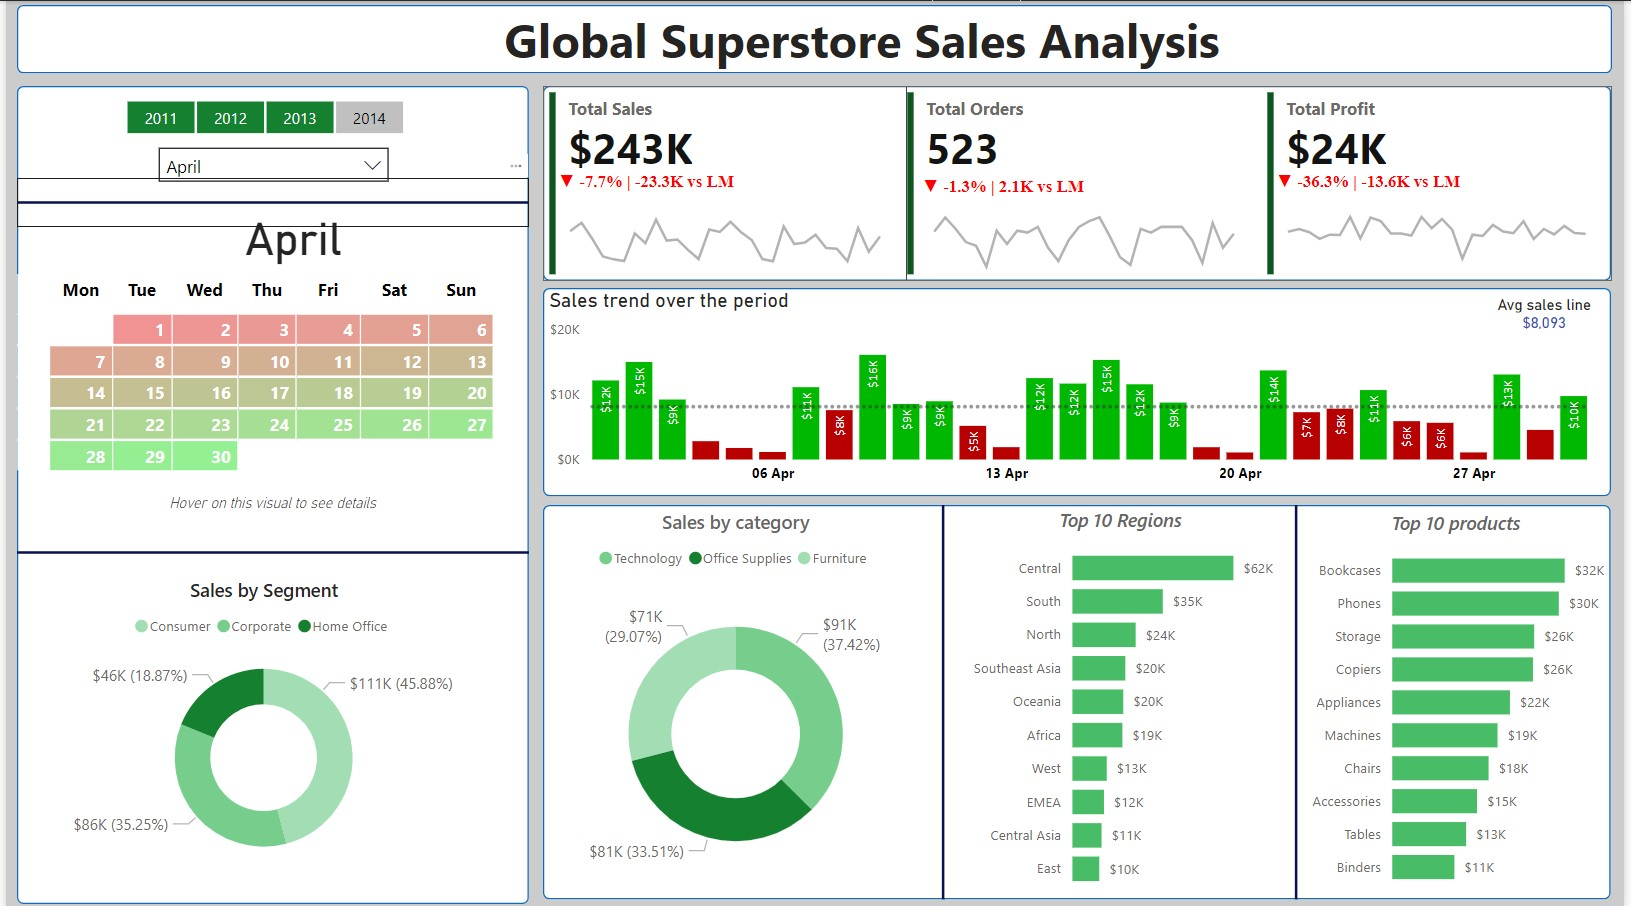

The page's visual inventory and layout, read from the dashboard file:
{"tool":"powerbi","page":{"name":"Page 1","canvas":[1280,720],"ordinal":0},"visuals":[{"type":"shape","box":[8.6,67.3,405.4,647.8],"z":0},{"type":"cardVisual","fields":{"Data":["Measure.Total Sales"]},"box":[425.2,67.3,288.3,154.4],"z":0,"group":"g1"},{"type":"cardVisual","fields":{"Data":["Measure.Total Orders"]},"box":[708.2,67.3,284.7,154.4],"z":0,"group":"g2"},{"type":"cardVisual","fields":{"Data":["Measure.Total Profit"]},"box":[992.9,67.3,277.6,154.4],"z":0,"group":"g3"},{"type":"shape","box":[8.6,3.5,1261.9,54.3],"z":1000},{"type":"lineChart","fields":{"Y":["Measure.Total Sales"],"Category":["Calender.Date.Variation.Date Hierarchy.Year","Calender.Date.Variation.Date Hierarchy.Quarter","Calender.Date.Variation.Date Hierarchy.Month","Calender.Date.Variation.Date Hierarchy.Day"]},"box":[432.2,135.4,274.3,79.4],"z":1000,"group":"g1"},{"type":"lineChart","fields":{"Category":["Calender.Date Hierarchy.Date"],"Y":["Measure.Total Profit"]},"box":[999.7,135.4,264,79.4],"z":1000,"group":"g3"},{"type":"lineChart","fields":{"Category":["Calender.Date Hierarchy.Date"],"Y":["Measure.Total Orders"]},"box":[719.8,139.6,265.9,80.3],"z":1000,"group":"g2"},{"type":"shape","box":[425.2,226.8,845.3,164.7],"z":3000},{"type":"shape","box":[425.2,398.5,845.3,312.2],"z":4000},{"type":"textbox","box":[389,0,596.9,67.3],"z":5000},{"type":"shape","box":[425.2,67.3,845.3,154.4],"z":6000},{"type":"slicer","fields":{"Values":["Calender.Full month name"]},"box":[110.4,106.1,201.8,38.8],"z":7000},{"type":"slicer","fields":{"Values":["Calender.Date.Variation.Date Hierarchy.Year"]},"box":[75,77.6,257.9,29.3],"z":8000},{"type":"group","id":"g1","title":"Group 1","box":[425.2,67.3,288.3,154.4],"z":9000,"group":"g4"},{"type":"pivotTable","fields":{"Columns":["Calender.Day name"],"Rows":["Calender.Week number"],"Values":["Sum(Calender.Day number)"]},"box":[4.3,211.3,413.2,210.5],"z":9000},{"type":"group","id":"g2","title":"Group 1","box":[708.2,67.3,284.7,154.4],"z":10000,"group":"g4"},{"type":"card","fields":{"Values":["Min(Calender.Full month name)"]},"box":[112.1,156.1,230.3,58.7],"z":10000},{"type":"group","id":"g3","title":"Group 1","box":[992.9,67.3,277.6,154.4],"z":11000,"group":"g4"},{"type":"card","fields":{"Values":["Measure.Foot note"]},"box":[88.8,384.7,247.5,27.6],"z":11000},{"type":"donutChart","title":" Sales by Segment","fields":{"Y":["Measure.Total Sales"],"Category":["Orders.Segment"]},"box":[8.6,455.4,390.7,238.9],"z":12000},{"type":"shape","box":[8.6,416.6,405.4,38.8],"z":13000},{"type":"shape","box":[8.6,139.7,405.4,38.8],"z":14000},{"type":"barChart","title":"Top 10 Regions","fields":{"Category":["Orders.Region"],"Y":["Measure.Total Sales"]},"box":[754.8,400.7,253.9,312.2],"z":15000},{"type":"barChart","title":"Top 10 products","fields":{"Y":["Measure.Total Sales"],"Category":["Orders.Sub-Category"]},"box":[1023.8,402.8,246.7,307.9],"z":16000},{"type":"donutChart","title":" Sales by category","fields":{"Y":["Measure.Total Sales"],"Category":["Orders.Category"]},"box":[432.1,401.9,290.7,308.8],"z":17000},{"type":"group","id":"g4","title":"Group 2","box":[425.2,67.3,845.3,154.4],"z":18000},{"type":"shape","box":[706.4,398.5,69.9,312.2],"z":19000},{"type":"shape","box":[985.9,398.5,69.9,312.2],"z":20000},{"type":"columnChart","title":"Sales trend over the period","fields":{"Category":["Orders.Order Date"],"Y":["Measure.Total Sales"]},"box":[425.2,226.8,838.4,164.7],"z":21000},{"type":"card","title":"Avg sales line","fields":{"Values":["Measure.Daily average sales"]},"box":[1171.3,233.7,92.3,31.9],"z":22000}]}

Visuals, with their boxes in screenshot pixels (x1, y1, x2, y2), scaled from the page's 1280x720 canvas onto the 1631x906 screenshot:
shape: <box>11,85,528,900</box>
cardVisual - Measure.Total Sales: <box>542,85,909,279</box>
cardVisual - Measure.Total Orders: <box>902,85,1265,279</box>
cardVisual - Measure.Total Profit: <box>1265,85,1619,279</box>
shape: <box>11,4,1619,73</box>
lineChart - Measure.Total Sales x Calender.Date.Variation.Date Hierarchy.Year: <box>551,170,900,270</box>
lineChart - Calender.Date Hierarchy.Date x Measure.Total Profit: <box>1274,170,1610,270</box>
lineChart - Calender.Date Hierarchy.Date x Measure.Total Orders: <box>917,176,1256,277</box>
shape: <box>542,285,1619,493</box>
shape: <box>542,501,1619,894</box>
textbox: <box>496,0,1256,85</box>
shape: <box>542,85,1619,279</box>
slicer - Calender.Full month name: <box>141,134,398,182</box>
slicer - Calender.Date.Variation.Date Hierarchy.Year: <box>96,98,424,135</box>
"Group 1" group: <box>542,85,909,279</box>
pivotTable - Calender.Day name x Calender.Week number: <box>5,266,532,531</box>
"Group 1" group: <box>902,85,1265,279</box>
card - Min(Calender.Full month name): <box>143,196,436,270</box>
"Group 1" group: <box>1265,85,1619,279</box>
card - Measure.Foot note: <box>113,484,429,519</box>
" Sales by Segment" donutChart: <box>11,573,509,874</box>
shape: <box>11,524,528,573</box>
shape: <box>11,176,528,225</box>
"Top 10 Regions" barChart: <box>962,504,1285,897</box>
"Top 10 products" barChart: <box>1305,507,1619,894</box>
" Sales by category" donutChart: <box>551,506,921,894</box>
"Group 2" group: <box>542,85,1619,279</box>
shape: <box>900,501,989,894</box>
shape: <box>1256,501,1345,894</box>
"Sales trend over the period" columnChart: <box>542,285,1610,493</box>
"Avg sales line" card: <box>1492,294,1610,334</box>
